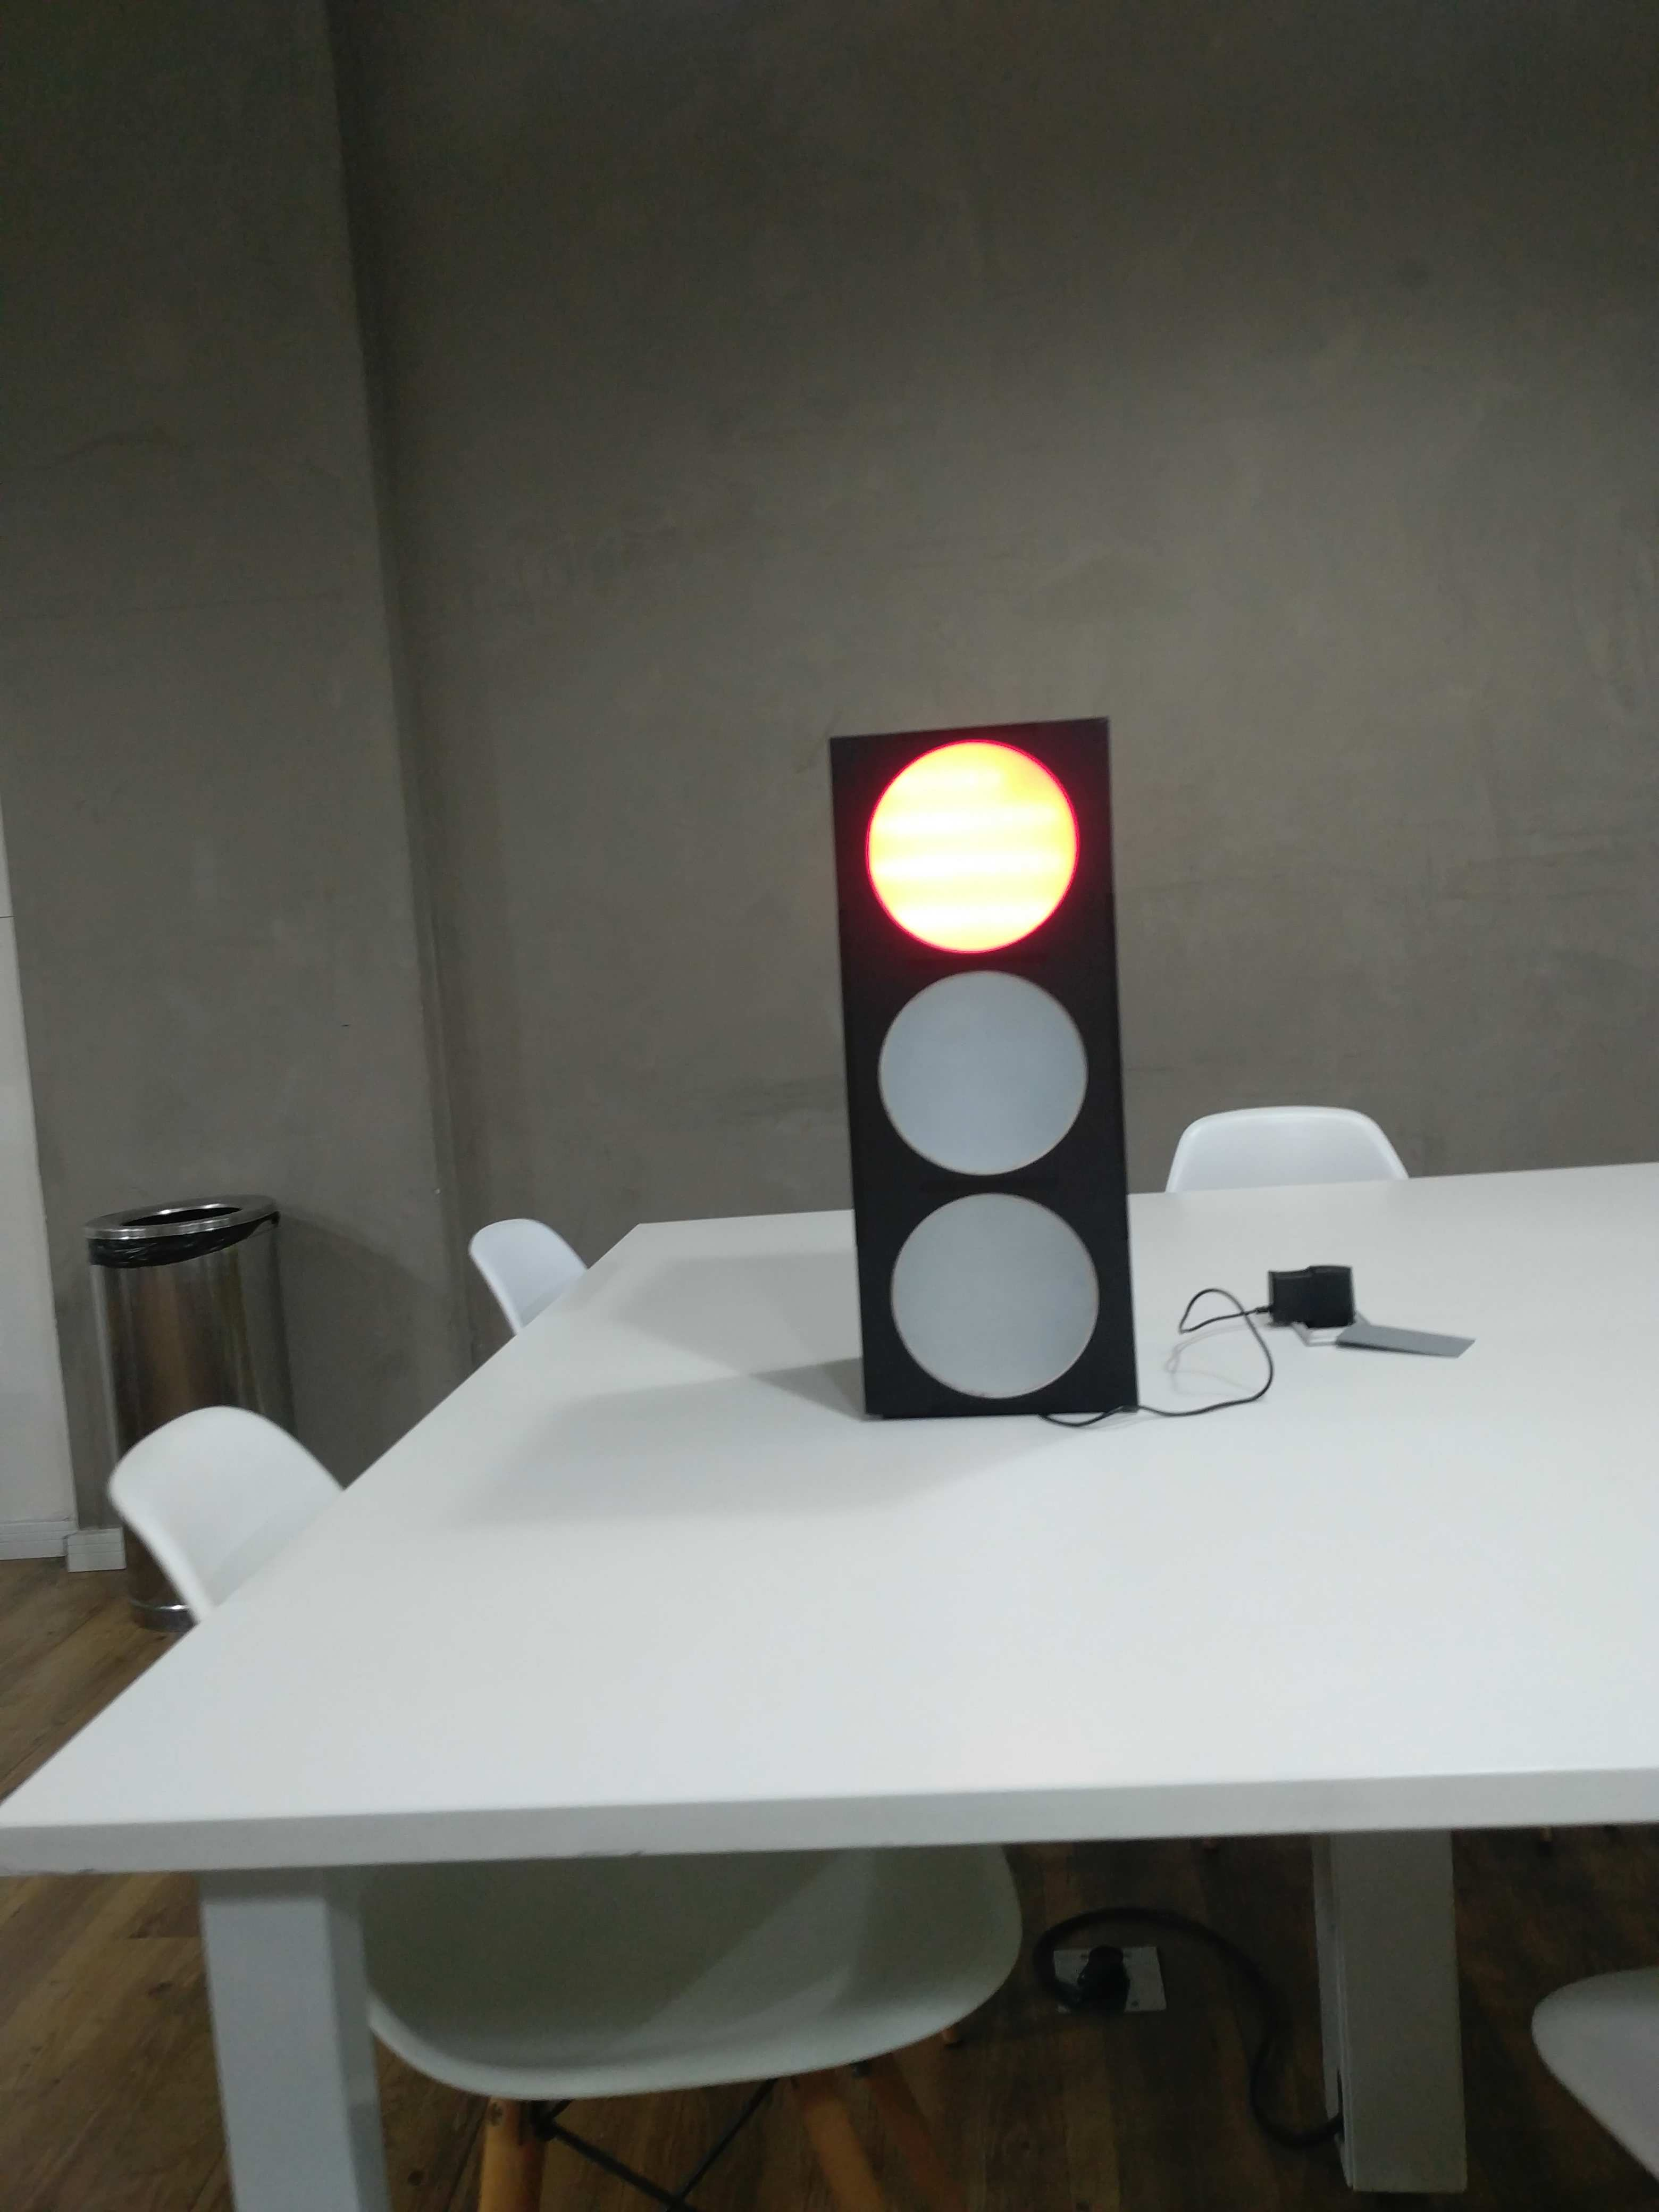stop: (828, 716, 1152, 1423)
